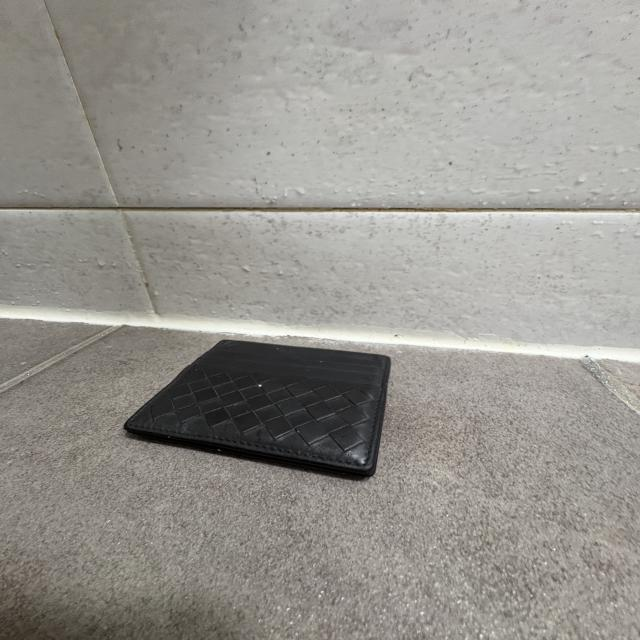wallet: (123, 340, 390, 482)
